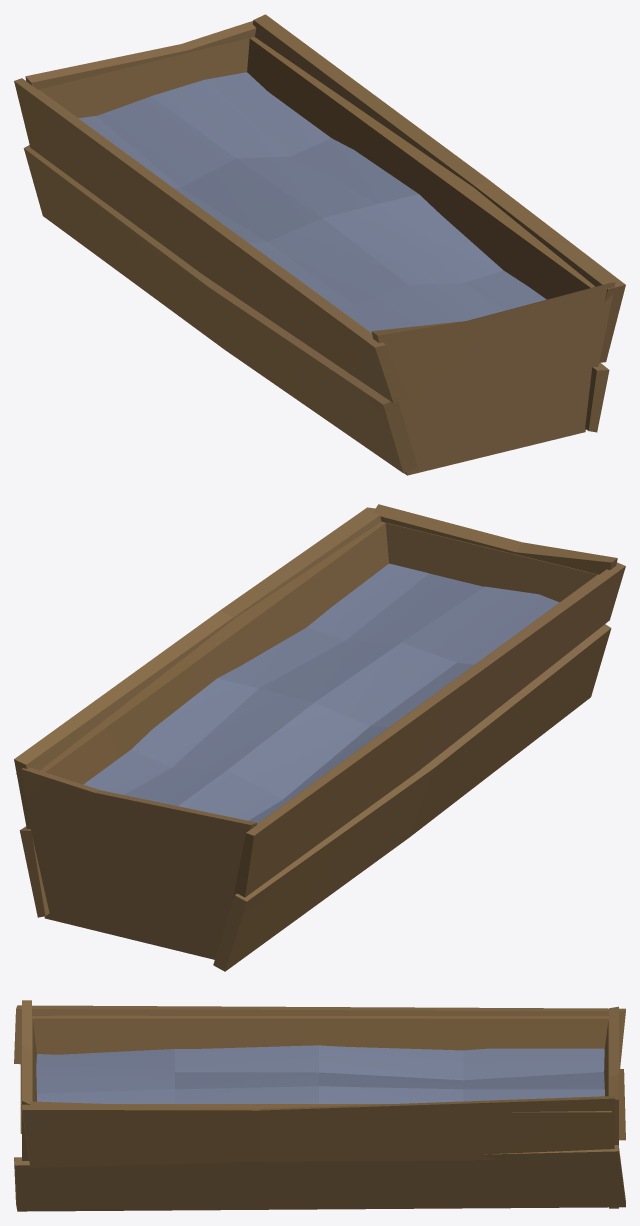
The model's file is WaterTrough.fbx.
3 renders of one model, top to bottom at view 1: azimuth 30°, elevation 25°; view 2: azimuth 150°, elevation 25°; view 3: azimuth 270°, elevation 25°, orthographic. The views are drawn at different scales.
Visible parts, largest first — view 1: wood_water_trough_Cube; view 2: wood_water_trough_Cube; view 3: wood_water_trough_Cube.
Boxes of the visible parts, x1,y1,x2,y2 form: wood_water_trough_Cube: (14, 14, 625, 475); wood_water_trough_Cube: (14, 504, 625, 971); wood_water_trough_Cube: (14, 1000, 625, 1211).
Size of the model in its own units: 1.68 by 4.14 by 0.9554.
Materials: 1 (1 with a texture image).
